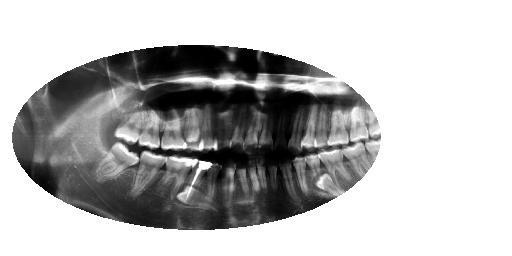Cavity: (286, 98, 307, 155), (279, 157, 301, 205), (229, 108, 249, 155), (237, 163, 253, 213), (267, 158, 282, 205), (259, 110, 275, 154), (244, 107, 258, 155)
Fillings: (155, 151, 198, 203)
Impacted Tooth: (95, 142, 139, 187)
Implant: (180, 159, 213, 206)
